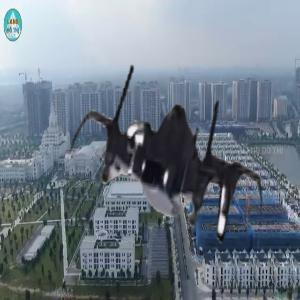drone: (62, 57, 279, 274)
